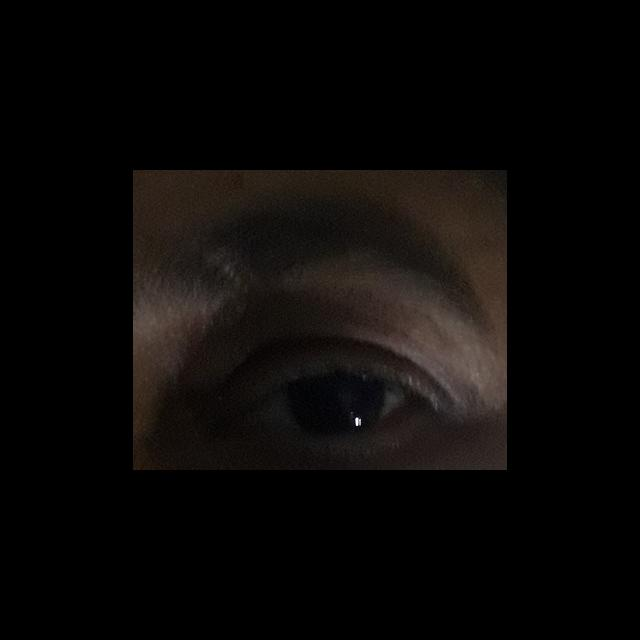eye: (266, 375, 406, 434)
iris: (288, 376, 386, 436)
